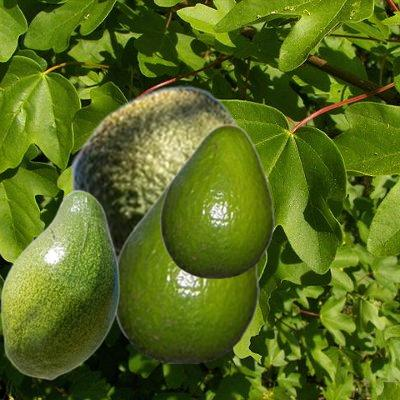avocado: (69, 85, 247, 255), (114, 170, 258, 362), (0, 189, 119, 379), (159, 123, 273, 277)
